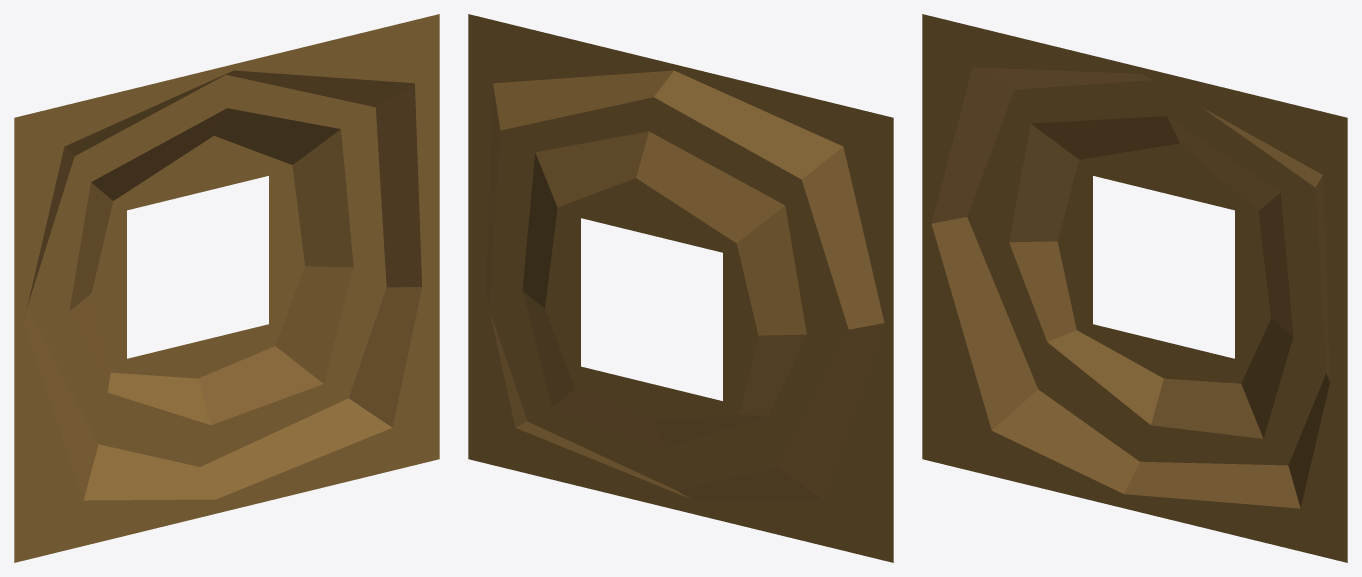
File: SD_Env_Cave_Wall_Entrance_01.fbx
The picture shows the model from 3 angles, left to right: view 1: azimuth 30°, elevation 25°; view 2: azimuth 150°, elevation 25°; view 3: azimuth 330°, elevation 25°; orthographic projection.
Visible parts, largest first — view 1: SD_Env_Cave_Wall_Entrance_01; view 2: SD_Env_Cave_Wall_Entrance_01; view 3: SD_Env_Cave_Wall_Entrance_01.
Boxes of the visible parts, box(x1,y1,x2,y2) form: SD_Env_Cave_Wall_Entrance_01: box(14, 14, 439, 562); SD_Env_Cave_Wall_Entrance_01: box(468, 14, 893, 562); SD_Env_Cave_Wall_Entrance_01: box(922, 14, 1347, 562).
Size of the model in its own units: 15 by 15 by 1.77.
